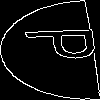P: (24, 25, 100, 62)
